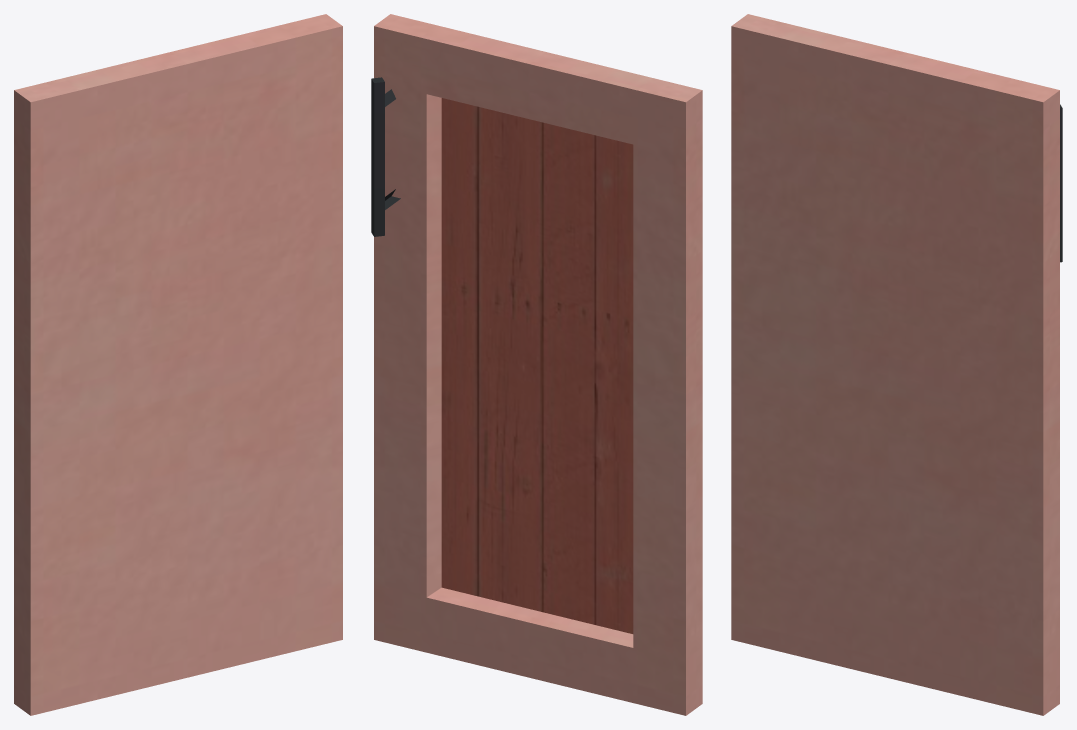
Rendered from Washbasin_door_01.glb.
3 renders of one model, left to right at view 1: azimuth 30°, elevation 25°; view 2: azimuth 150°, elevation 25°; view 3: azimuth 330°, elevation 25°, orthographic.
Parts seen in each view (by area): view 1: Washbasin_door_01; view 2: Washbasin_door_01; view 3: Washbasin_door_01.
Boxes of the visible parts, x1,y1,x2,y2 form: Washbasin_door_01: (14, 14, 342, 715); Washbasin_door_01: (371, 14, 702, 715); Washbasin_door_01: (731, 14, 1062, 715).
Size of the model in its own units: 0.4053 by 0.7613 by 0.0873.
Materials: 3 (3 with a texture image).
